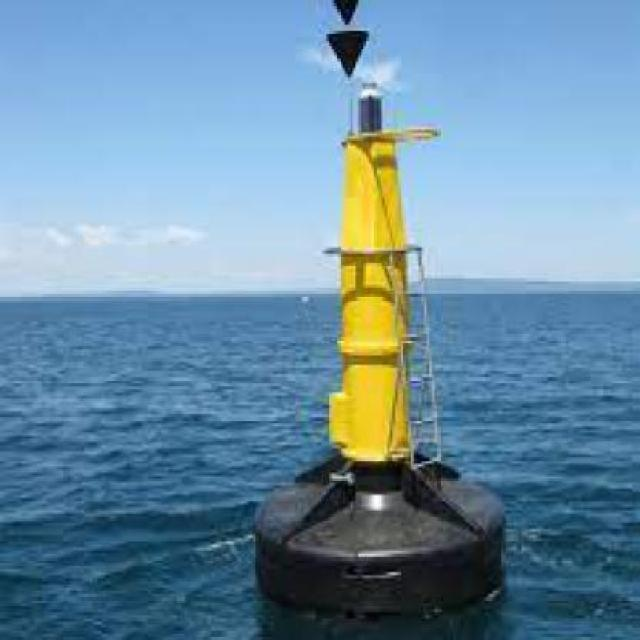buoy: (234, 1, 525, 619)
